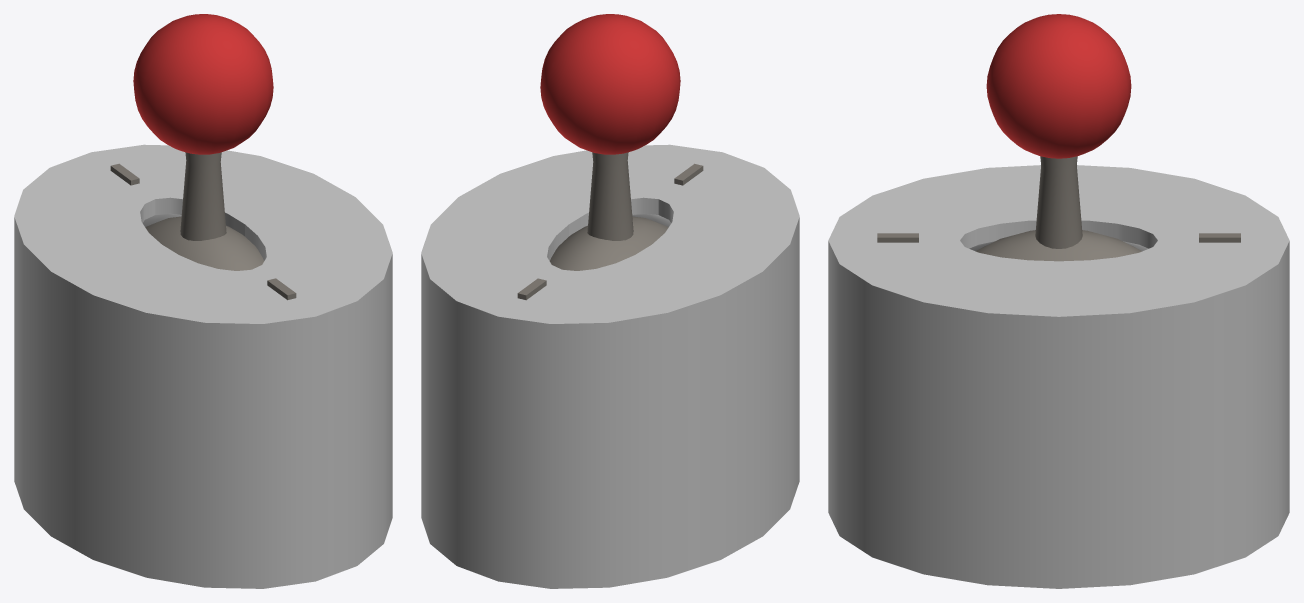
Rendered from Binary Switch.fbx.
3 renders of one model, left to right at view 1: azimuth 30°, elevation 25°; view 2: azimuth 150°, elevation 25°; view 3: azimuth 270°, elevation 25°, orthographic. The views are drawn at different scales.
Parts seen in each view (by area): view 1: pCube10, pSphere8, pCylinder1, pSphere9; view 2: pCube10, pSphere8, pCylinder1, pSphere9; view 3: pCube10, pSphere8, pCylinder1, pSphere9.
Boxes of the visible parts, x1,y1,x2,y2 form: pCube10: [14, 144, 392, 588]; pSphere8: [133, 14, 273, 154]; pCylinder1: [180, 152, 226, 240]; pSphere9: [145, 216, 264, 270]; pCube10: [421, 144, 799, 588]; pSphere8: [540, 14, 680, 154]; pCylinder1: [587, 152, 633, 240]; pSphere9: [549, 216, 668, 270]; pCube10: [828, 165, 1289, 588]; pSphere8: [986, 14, 1131, 158]; pCylinder1: [1035, 156, 1082, 248]; pSphere9: [976, 230, 1141, 261].
Bounding box in the file's own units: 8.14 × 12.23 × 10.39.
